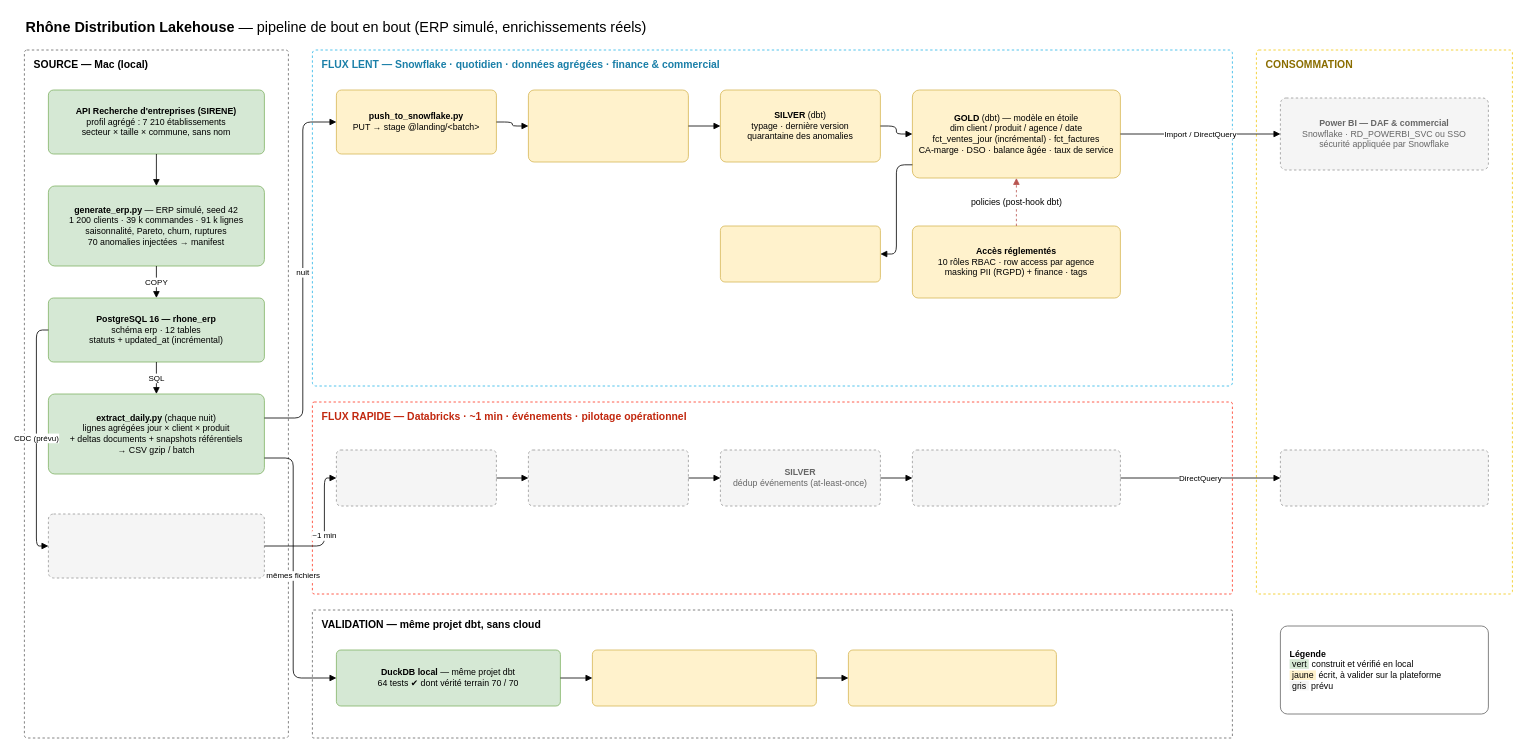
Image size: 1526x752. Some labels were removed from this diagram. Here are the shapes that lost their labels. From the top down, the centre of each, then its label:
At point 608,125: "BRONZE COPY INTO idempotent Task 06:00 Europe/Paris append-only + source_file".
At point 800,253: "ml_churn_features (dbt) → Snowpark ML (prévu)".
At point 416,477: "Volume Unity Catalog landing/events".
At point 608,477: "BRONZE Auto Loader · streaming table".
At point 1016,477: "GOLD ops live carnet · ruptures en cours · CA du jour".
At point 1384,477: "Power BI — Ops live Databricks SQL Warehouse".
At point 156,545: "event_emitter.py événements JSON commandes / expéditions micro-batch ~1 min".
At point 704,677: "GitHub Actions Postgres service → extract → dbt build".
At point 952,677: "Site de doc dbt graphe de lignage (GitHub Pages)".
